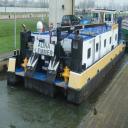tugboat: (7, 8, 128, 110)
